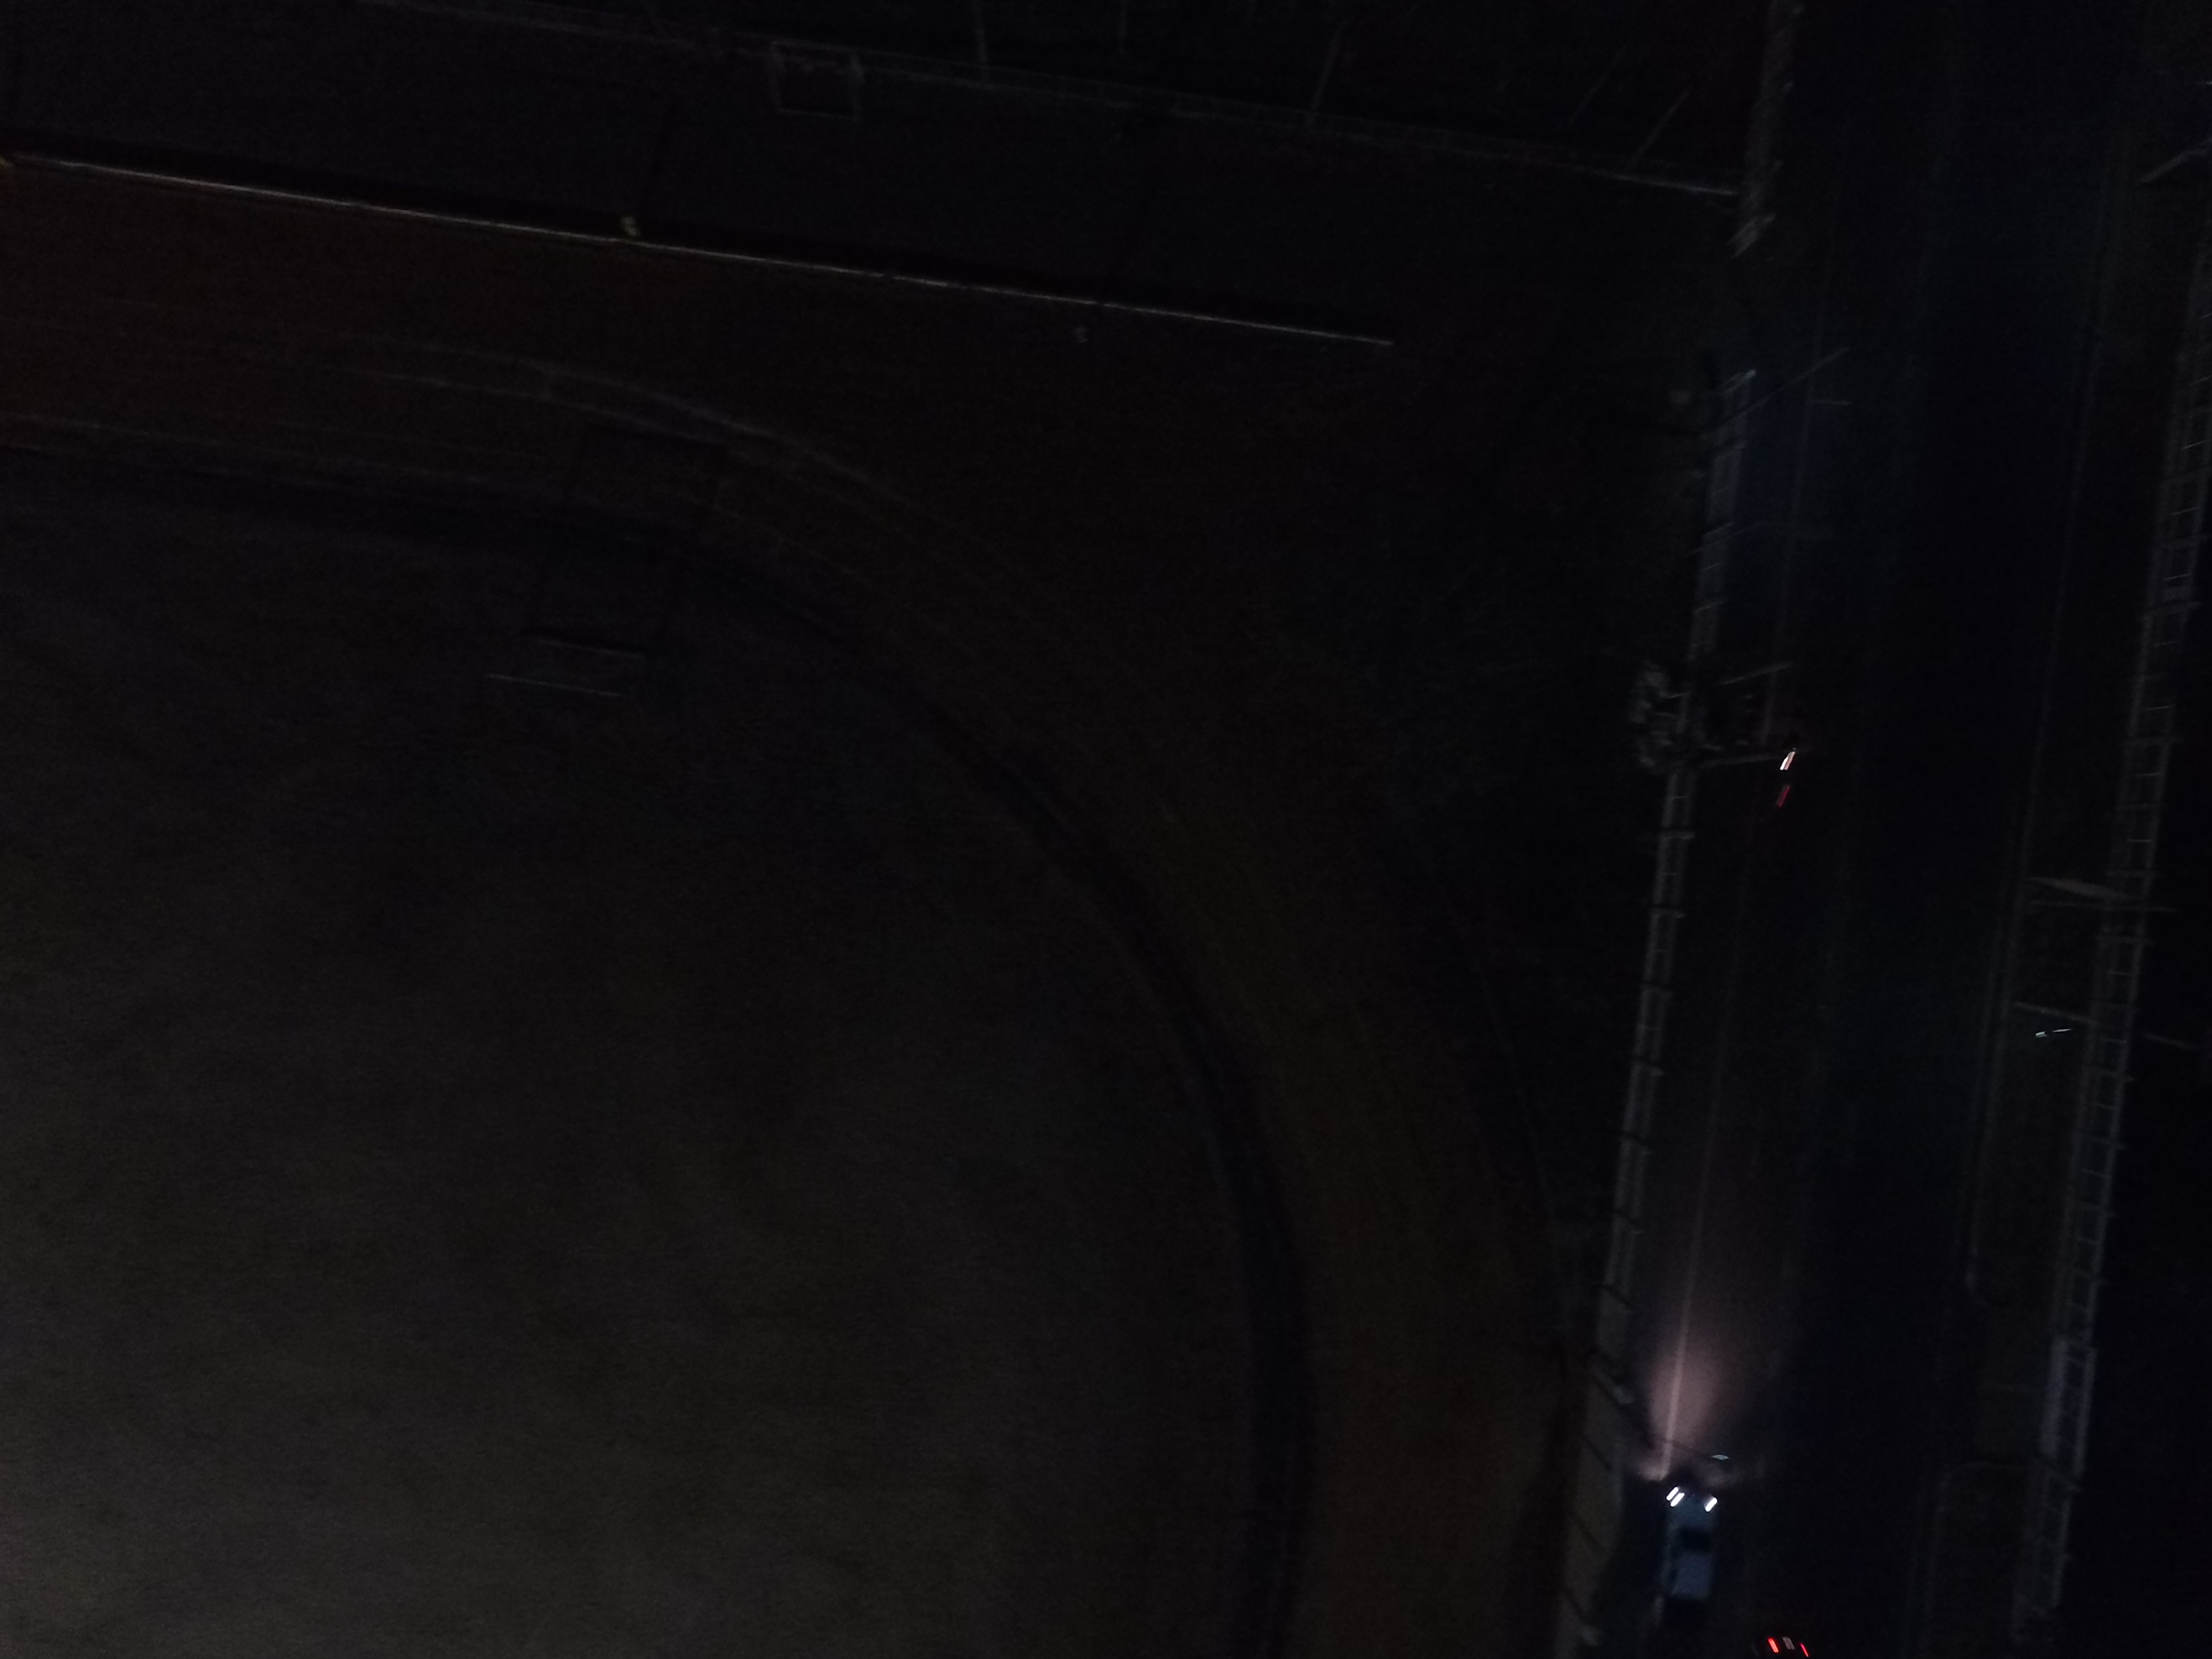car: (1625, 1473, 1728, 1628)
